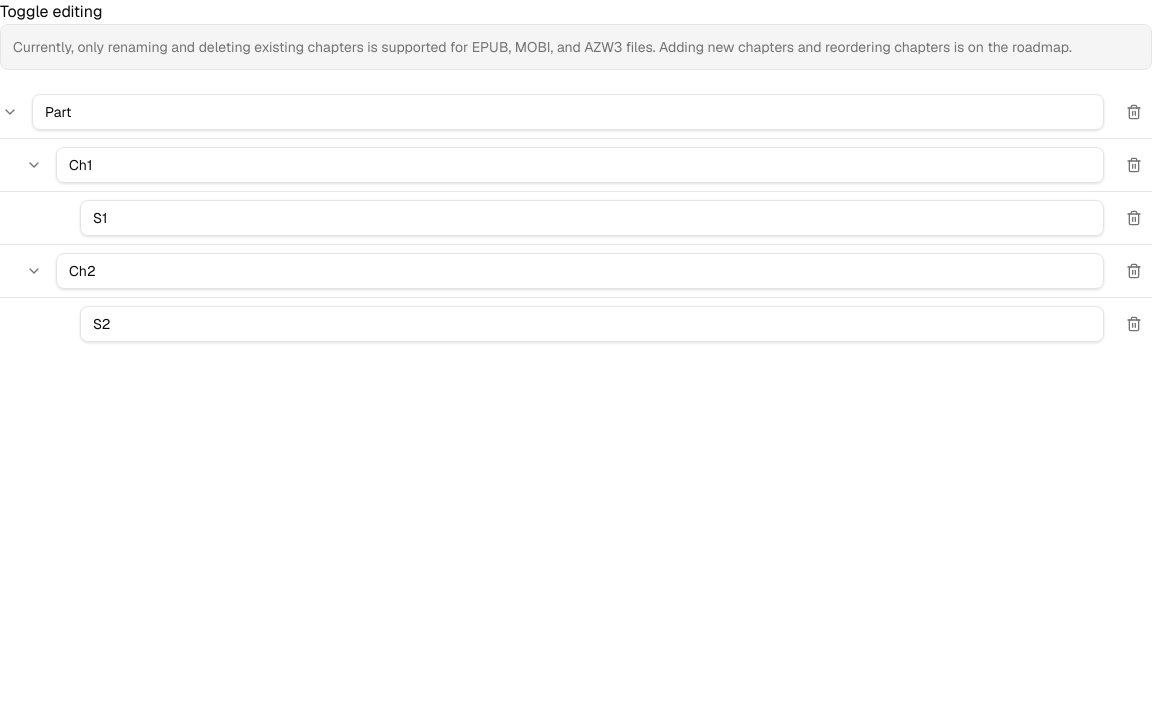
Scenario: FileChaptersEditor - EPUB edit state › keeps each row's expanded state when a sibling above it is deleted
Expected: the 2nd field showing "Ch1" is shown, [56,147,1104,183]
Note: Collapse Ch1, then delete it (it has a subchapter, so confirm).
Click the 2nd button named "Hide subchapters" at (34, 165), box [24,155,44,175]
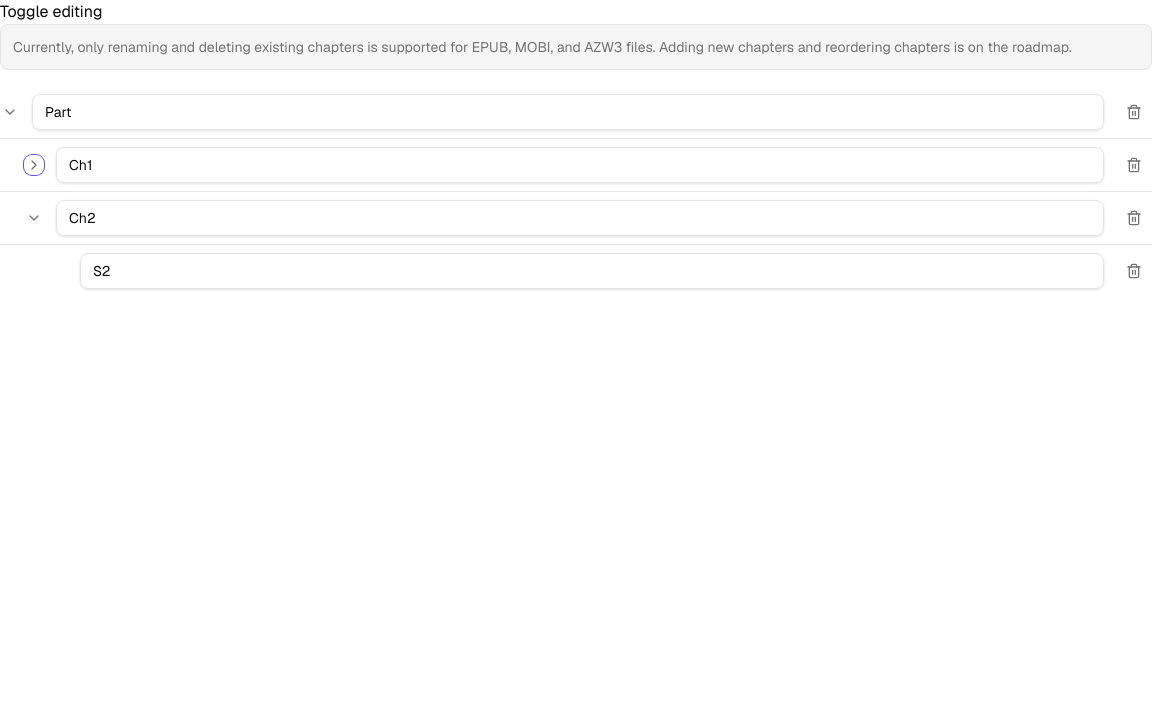
Click the 2nd button named "Delete chapter" at (1134, 165), box [1116,147,1151,183]
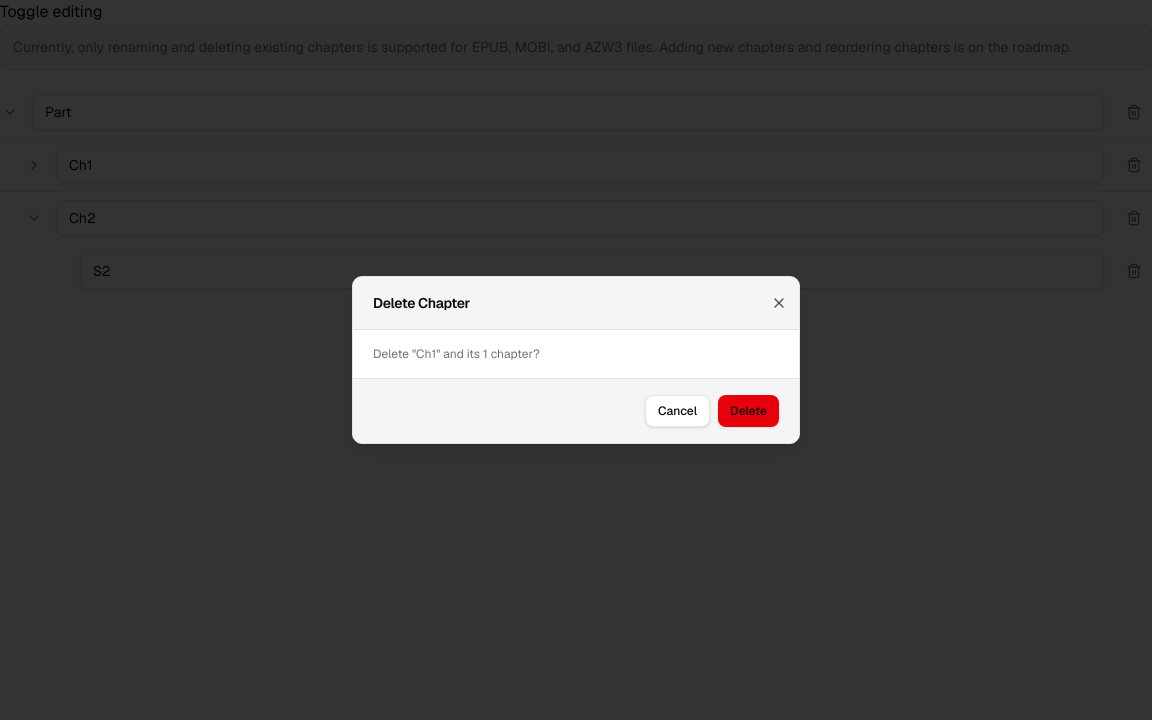
Click the button "Delete" at (749, 411), box [718,395,779,427]
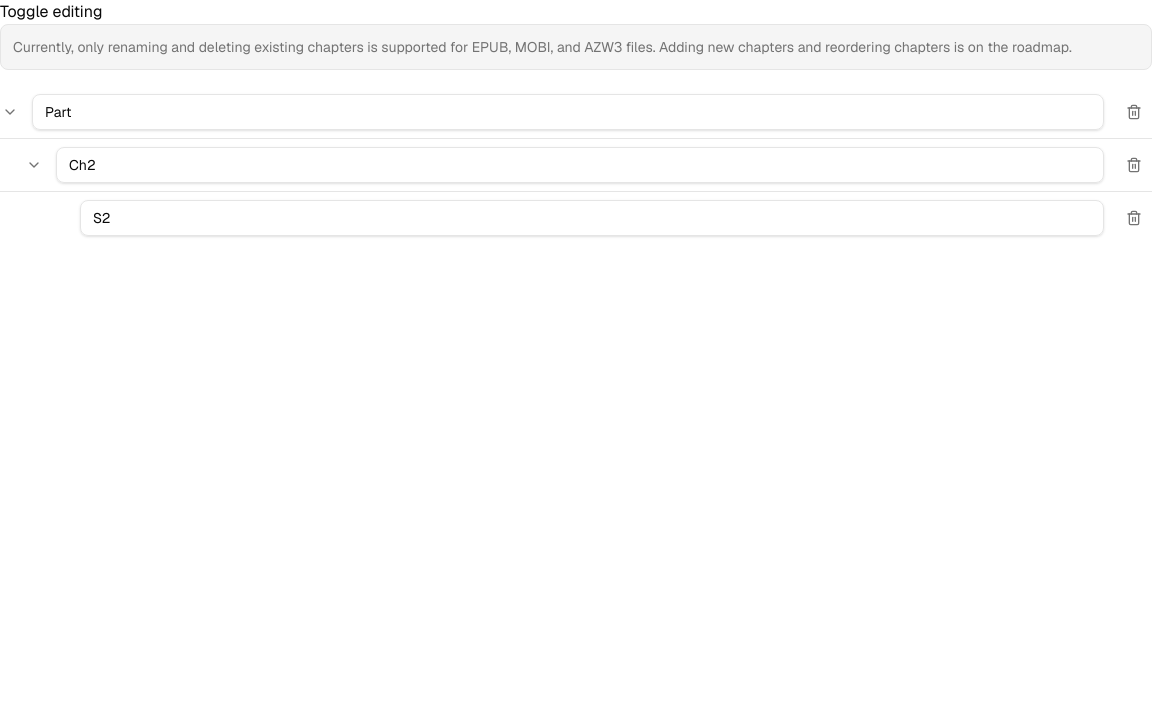
Expected: the 3rd field showing "S2" is shown, [80,200,1104,236]
Now the text showing "Ch1" is gone
